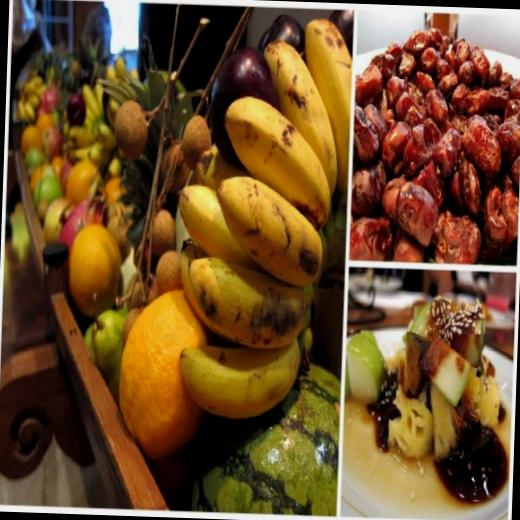Banana: (176, 13, 354, 424), (167, 336, 292, 426), (66, 82, 120, 170), (18, 74, 48, 120)
Grape: (115, 275, 198, 461), (64, 219, 118, 314), (65, 152, 89, 202), (22, 112, 42, 158), (52, 146, 64, 192), (39, 112, 50, 140)
